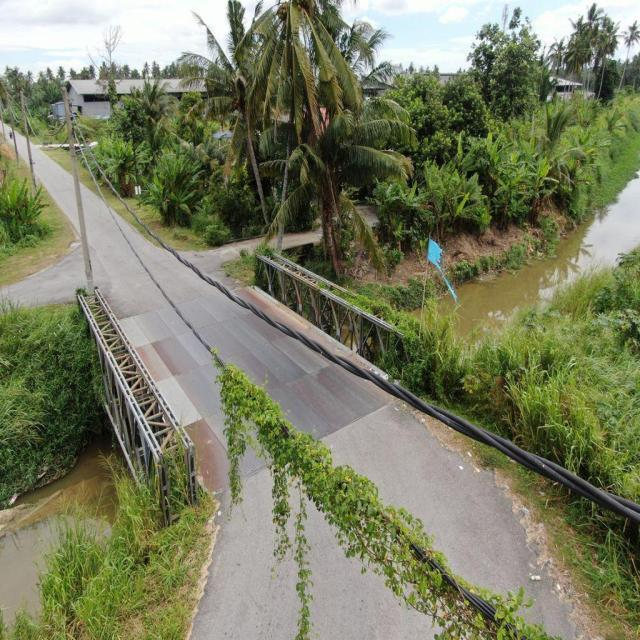critical vegetation: (202, 340, 554, 634)
